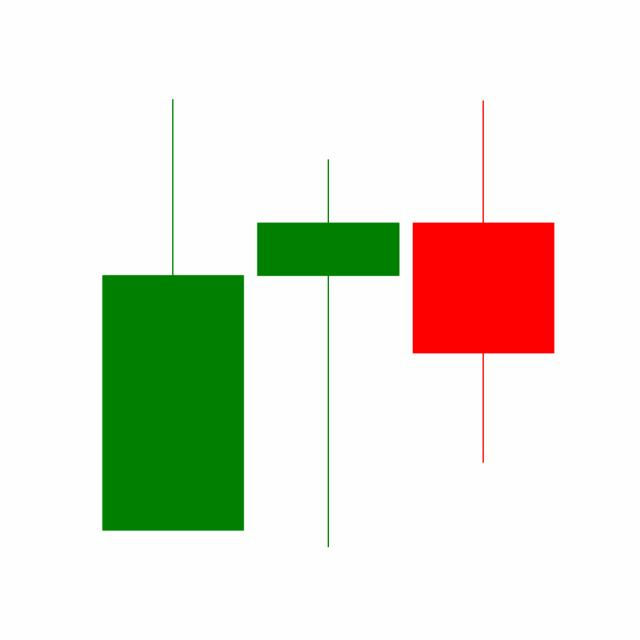Spinning Top: (249, 155, 406, 552)
